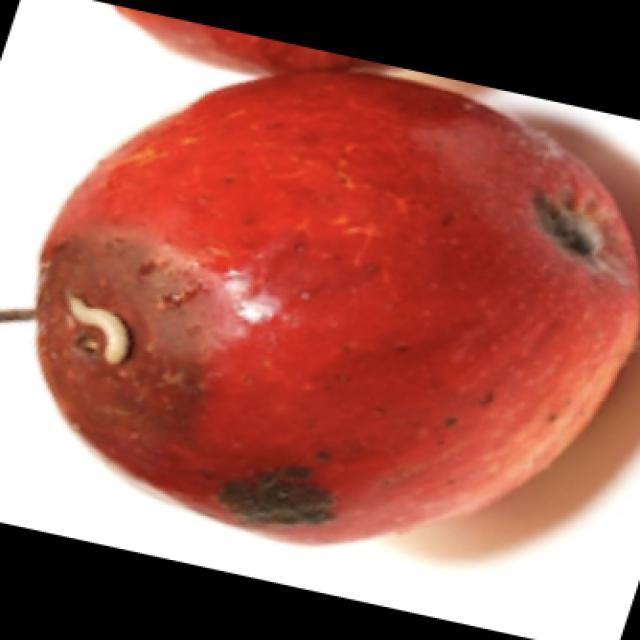Rotten: (45, 65, 612, 543)
